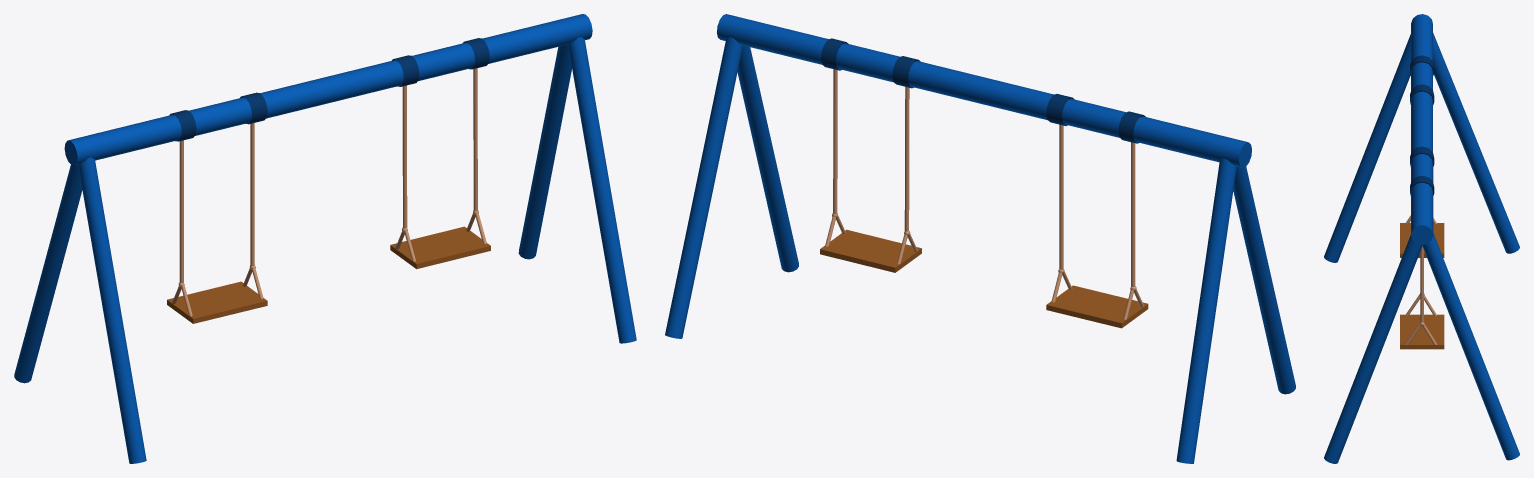
Rendered from Hamaca .fbx.
3 views of the same model, side by side, from view 1: azimuth 30°, elevation 25°; view 2: azimuth 150°, elevation 25°; view 3: azimuth 270°, elevation 25° (orthographic). The views are drawn at different scales.
Visible parts, largest first — view 1: Cylinder; view 2: Cylinder; view 3: Cylinder.
Boxes of the visible parts, x1,y1,x2,y2 form: Cylinder: (14,14,636,463); Cylinder: (665,14,1295,463); Cylinder: (1324,14,1519,463).
Size of the model in its own units: 2438 by 1295 by 944.
1 material, 1 textured.
